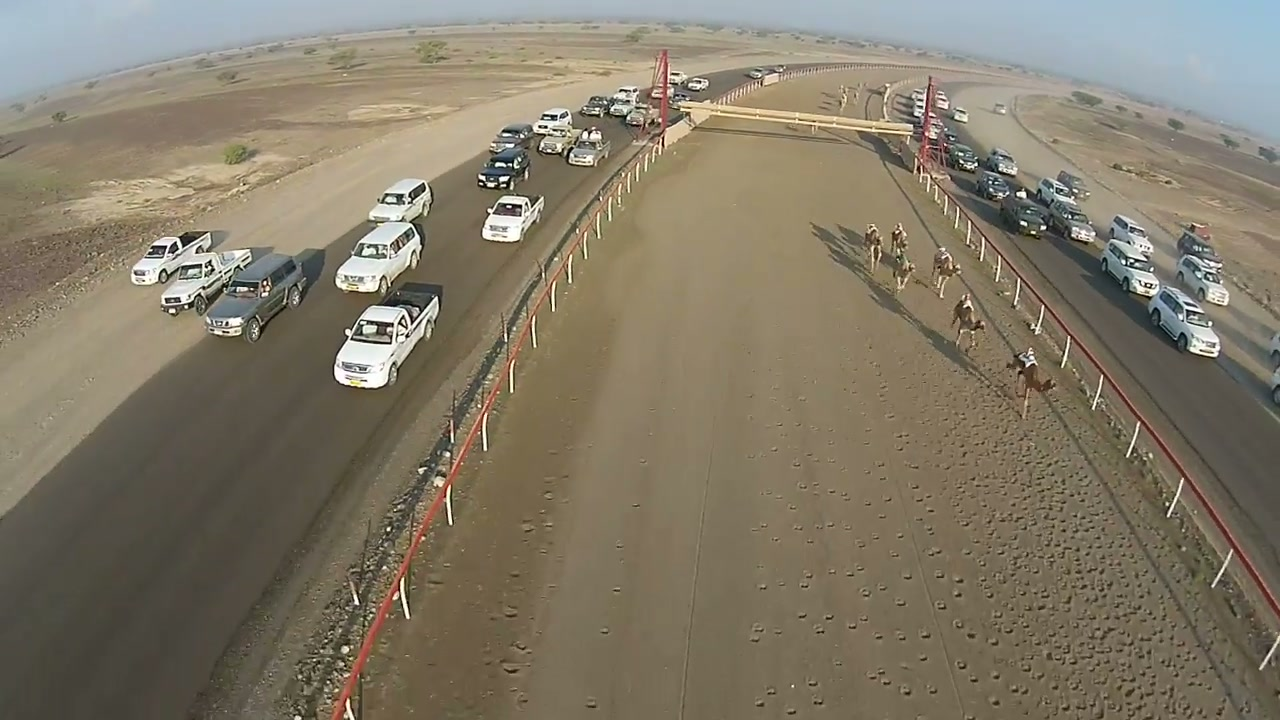animal_footprint: (960, 347, 1235, 717), (735, 435, 973, 717), (579, 535, 639, 718)
